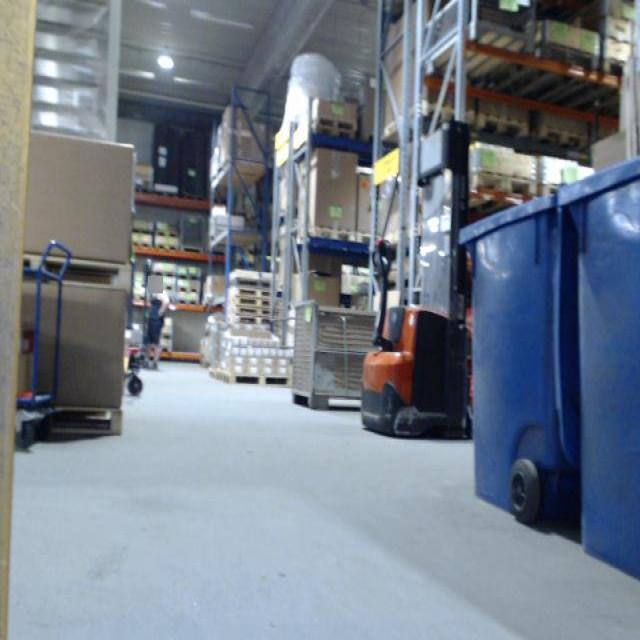pallet: (18, 249, 135, 293), (382, 101, 480, 144), (46, 406, 129, 441), (463, 170, 536, 207), (529, 39, 597, 68), (477, 113, 529, 144), (533, 126, 588, 151), (295, 224, 356, 245), (222, 371, 290, 386), (313, 114, 358, 130), (311, 125, 358, 140), (219, 304, 270, 314), (219, 314, 268, 324), (226, 293, 270, 304), (229, 274, 271, 284), (226, 284, 271, 293), (604, 61, 622, 78), (357, 233, 378, 245), (154, 242, 178, 251), (178, 272, 201, 281), (183, 192, 206, 201), (155, 230, 180, 238), (154, 190, 179, 198), (177, 297, 200, 305), (132, 227, 153, 235), (177, 285, 201, 292), (153, 270, 176, 277), (132, 241, 153, 248), (134, 187, 154, 194), (215, 370, 225, 380)
pallet_truck: (360, 110, 476, 441), (127, 242, 160, 406)
stillage: (288, 300, 377, 410), (422, 3, 535, 78), (178, 215, 205, 251)
